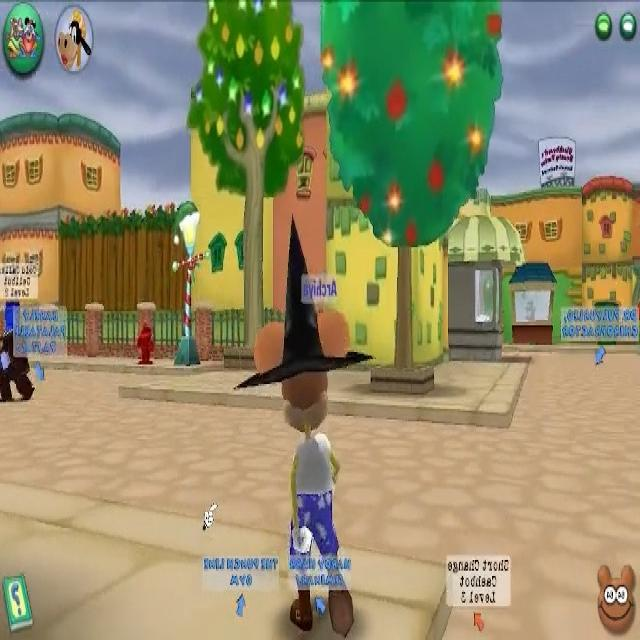coldcaller: (0, 264, 38, 405)
